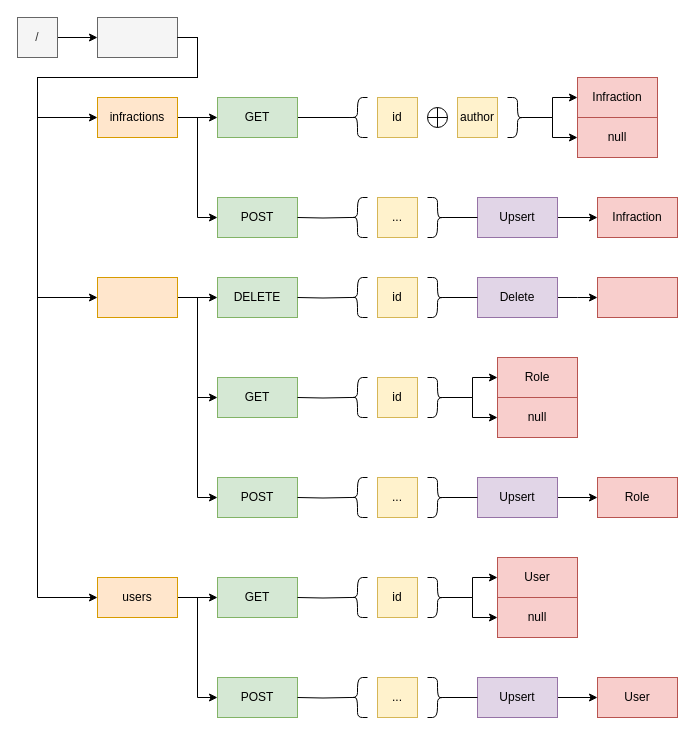
This 695x735 diagram has some shape labels left out. Each missing label, with the box of its shape:
api: (96, 16, 178, 58)
OK: (596, 276, 678, 318)
roles: (96, 276, 178, 318)
